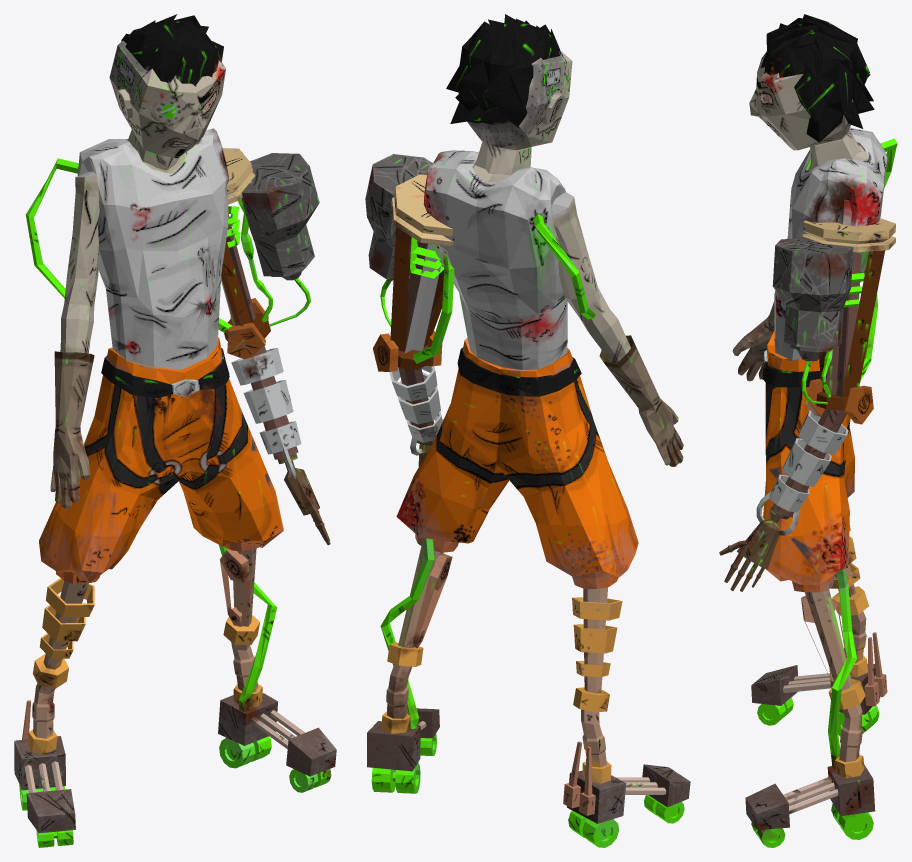
The model's file is CyborgFINALAnimation_000003.obj.
3 renders of one model, left to right at view 1: azimuth 30°, elevation 25°; view 2: azimuth 150°, elevation 25°; view 3: azimuth 270°, elevation 25°, orthographic. The views are drawn at different scales.
Parts seen in each view (by area): view 1: CyborgMesh_Cube.002; view 2: CyborgMesh_Cube.002; view 3: CyborgMesh_Cube.002.
Part boxes in pixels (x1=…): CyborgMesh_Cube.002: x1=14, y1=14, x2=336, y2=847; CyborgMesh_Cube.002: x1=365, y1=14, x2=690, y2=847; CyborgMesh_Cube.002: x1=719, y1=14, x2=897, y2=847.
Bounding box in the file's own units: 3.85 × 9.64 × 2.04.
